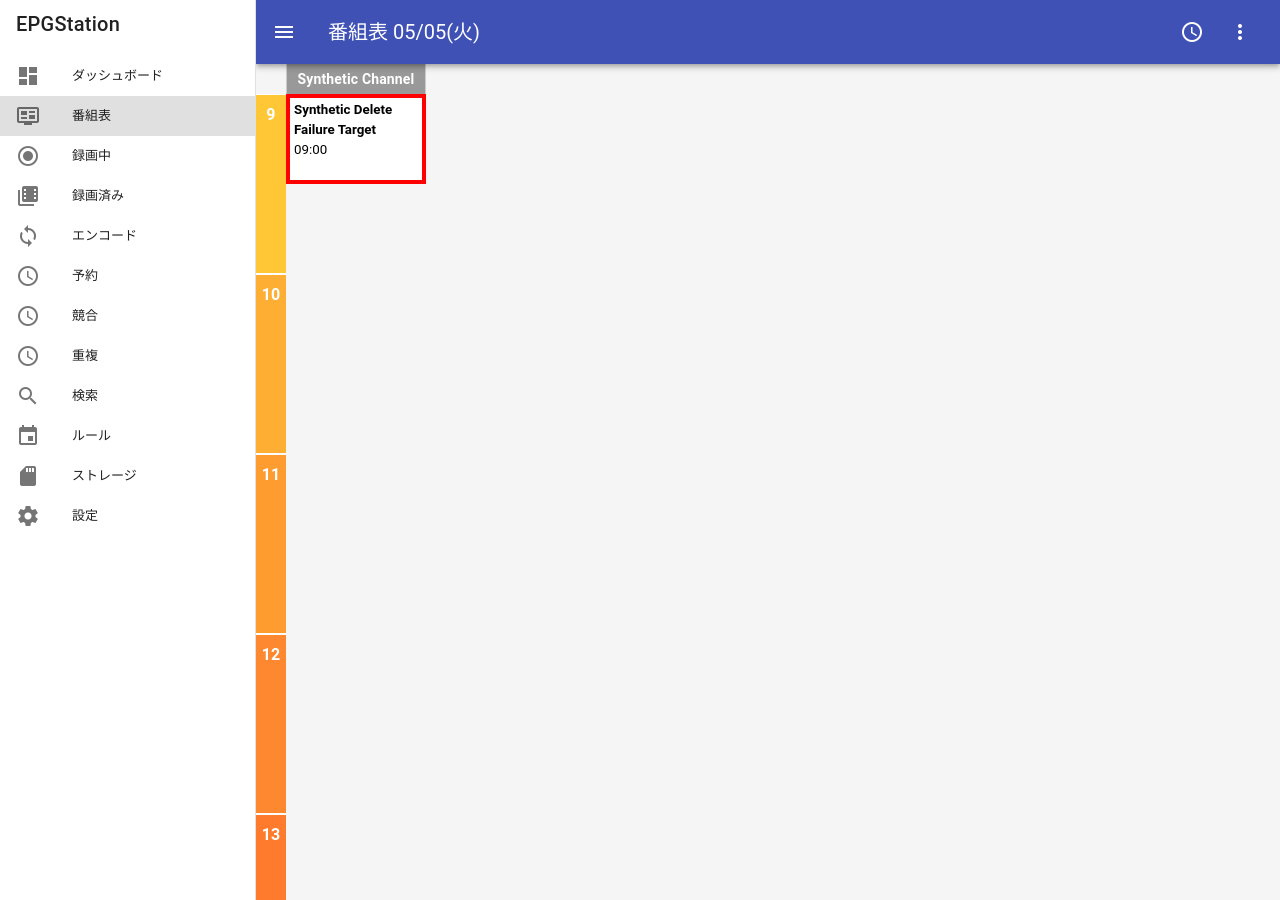
Test: Guide route and fetch lifecycle › [AC 4.12] [AC 4.15] shows the shared cancel failure snackbar when ProgramDialog delete fails
What coordinates should you click on to do the following:
click the button with test id "guide-program-715"
I would click on:
 (356, 139)
Its box is left=286, top=94, right=426, bottom=184.
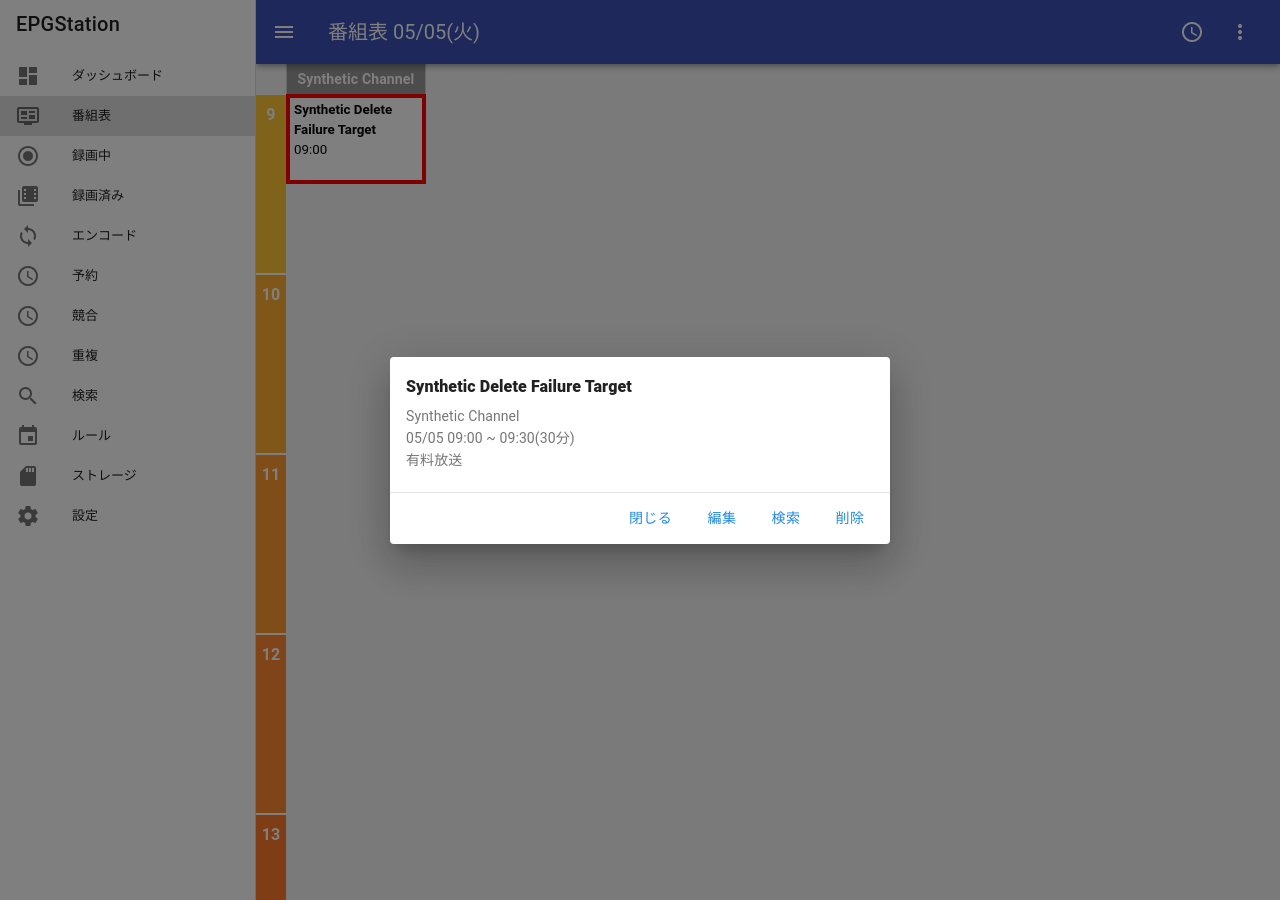
What coordinates should you click on to do the following:
click the button "削除"
I would click on:
 (850, 518)
Its box is left=818, top=500, right=882, bottom=536.
Wait 200 ms
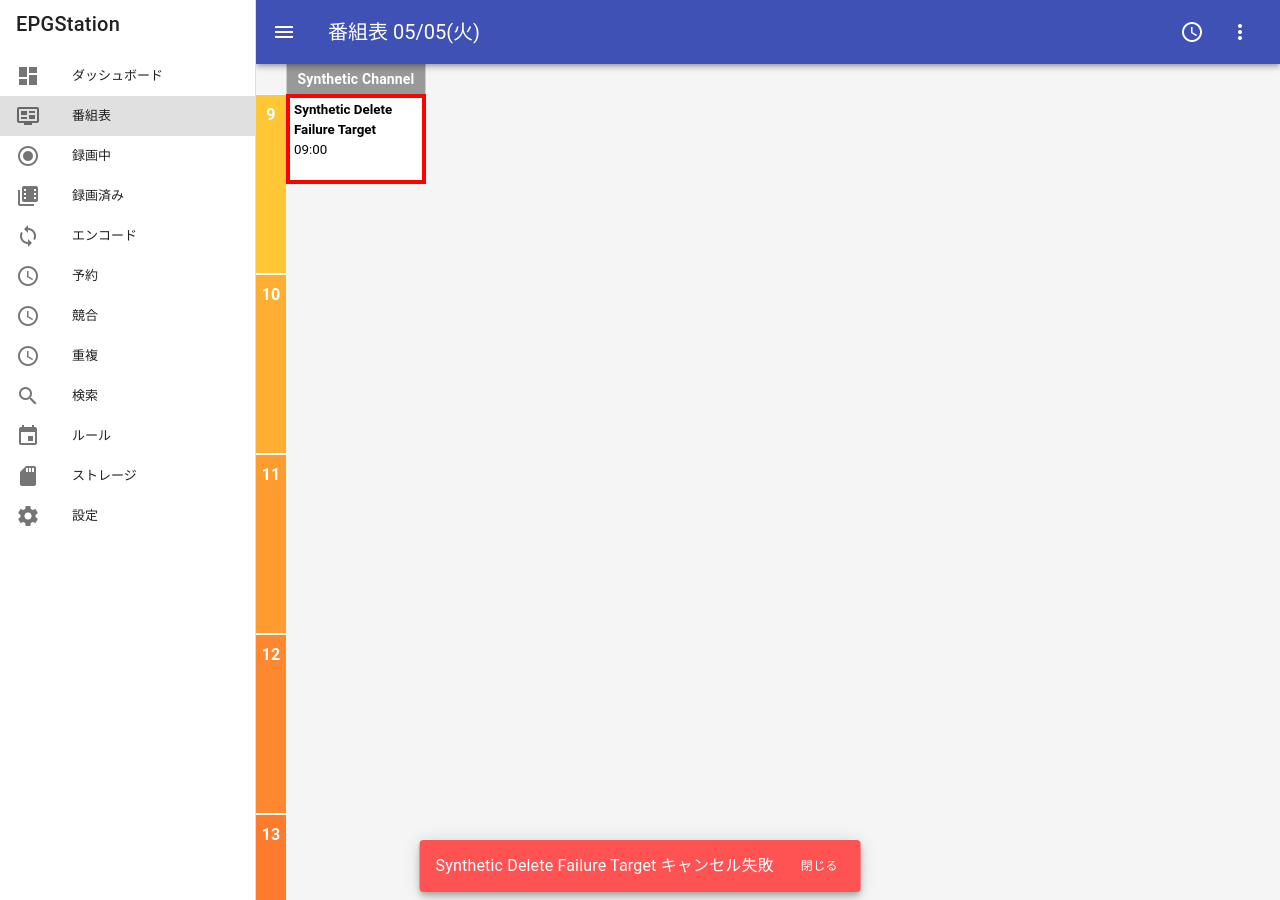
Expected: the message shows "Synthetic Delete Failure Target キャンセル失敗", left=436, top=856, right=774, bottom=875
